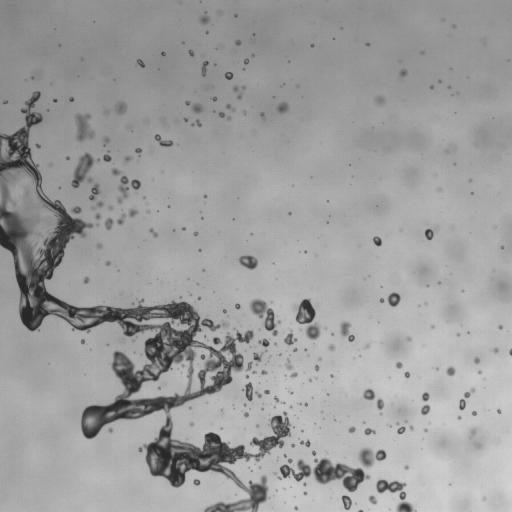droplet: (376, 479, 416, 511), (75, 113, 95, 141), (358, 447, 386, 467), (243, 383, 261, 401), (340, 321, 354, 341), (239, 255, 257, 269), (284, 329, 297, 345), (387, 292, 400, 306), (341, 495, 351, 509), (363, 389, 375, 400), (277, 102, 288, 113), (116, 102, 126, 113), (192, 103, 202, 113), (200, 13, 209, 24), (104, 218, 113, 229), (258, 338, 269, 347), (131, 179, 140, 189), (421, 404, 430, 414), (425, 228, 433, 239), (285, 359, 293, 370), (253, 353, 262, 362), (446, 366, 455, 375), (368, 495, 377, 504), (373, 236, 381, 246), (376, 398, 383, 409), (364, 428, 375, 435), (397, 425, 405, 434), (111, 168, 121, 175), (71, 206, 81, 213), (422, 392, 429, 402), (376, 96, 384, 104), (103, 153, 111, 161), (300, 440, 310, 446), (137, 59, 144, 67), (225, 72, 233, 79), (246, 361, 252, 370), (400, 69, 407, 76), (348, 426, 355, 433), (194, 120, 201, 126), (135, 148, 141, 155), (124, 156, 131, 162), (470, 428, 476, 435), (193, 479, 200, 485), (328, 344, 334, 350), (396, 362, 402, 368), (104, 137, 109, 144), (95, 213, 100, 220), (290, 372, 297, 377), (188, 50, 193, 56), (219, 112, 225, 117), (84, 277, 89, 283), (235, 303, 240, 309), (474, 357, 479, 363), (404, 371, 409, 377), (235, 40, 240, 45), (233, 86, 238, 91), (237, 93, 242, 98), (24, 191, 29, 196), (97, 243, 102, 248), (493, 348, 498, 353), (314, 365, 319, 370), (243, 412, 248, 417), (261, 370, 267, 374), (264, 390, 269, 394), (108, 427, 112, 432), (244, 59, 248, 63), (69, 97, 73, 101), (260, 112, 264, 116), (36, 144, 40, 148), (106, 261, 110, 265), (379, 298, 383, 302), (498, 325, 502, 329), (407, 337, 411, 341), (365, 344, 369, 348), (497, 409, 501, 413), (472, 411, 476, 415), (189, 422, 193, 426), (409, 426, 413, 430), (477, 444, 481, 448), (404, 465, 408, 469), (303, 491, 307, 495), (312, 450, 315, 455), (161, 52, 165, 55), (212, 97, 216, 100), (53, 98, 56, 102), (185, 101, 189, 104), (108, 206, 112, 209), (81, 339, 84, 343), (478, 370, 481, 374), (241, 86, 244, 89), (3, 100, 6, 103), (184, 118, 187, 121), (204, 194, 207, 197), (194, 232, 197, 235), (294, 348, 297, 351), (245, 375, 248, 378), (294, 506, 297, 509), (311, 44, 313, 47), (430, 86, 433, 88), (227, 117, 230, 119), (147, 210, 149, 213), (182, 227, 184, 230), (438, 281, 440, 284), (223, 310, 226, 312), (457, 333, 459, 336), (304, 403, 307, 405), (458, 416, 460, 419), (424, 429, 427, 431), (292, 444, 294, 447), (303, 483, 306, 485), (482, 497, 485, 499), (244, 112, 246, 114), (446, 150, 448, 152), (66, 157, 68, 159), (198, 297, 200, 299), (132, 339, 134, 341), (253, 371, 255, 373), (331, 375, 333, 377), (309, 379, 311, 381), (158, 387, 160, 389), (290, 391, 292, 393), (284, 454, 286, 456)
ligament: (0, 91, 286, 511), (275, 458, 369, 492), (249, 300, 281, 336), (293, 299, 320, 340), (71, 152, 99, 187), (459, 388, 474, 410), (117, 208, 137, 224), (117, 175, 128, 203), (154, 134, 172, 146), (89, 183, 100, 201), (201, 61, 208, 76), (91, 201, 103, 209), (274, 396, 284, 404), (149, 228, 157, 237), (226, 104, 234, 111), (509, 349, 511, 355), (358, 510, 363, 511)
